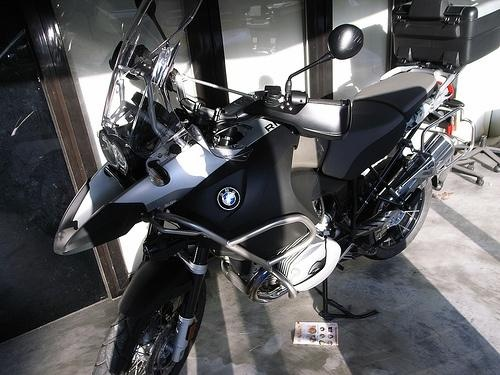motorbike: (55, 2, 476, 375)
